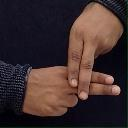hand: (66, 1, 123, 100), (20, 66, 121, 115)
